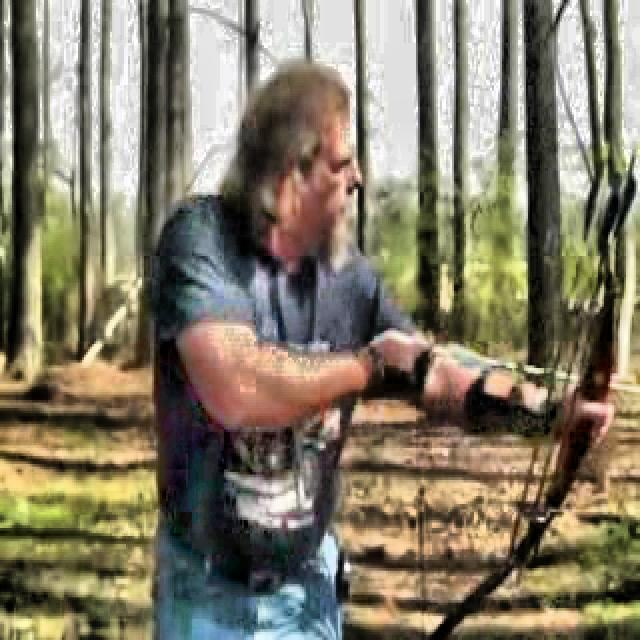I: (135, 67, 616, 566)
